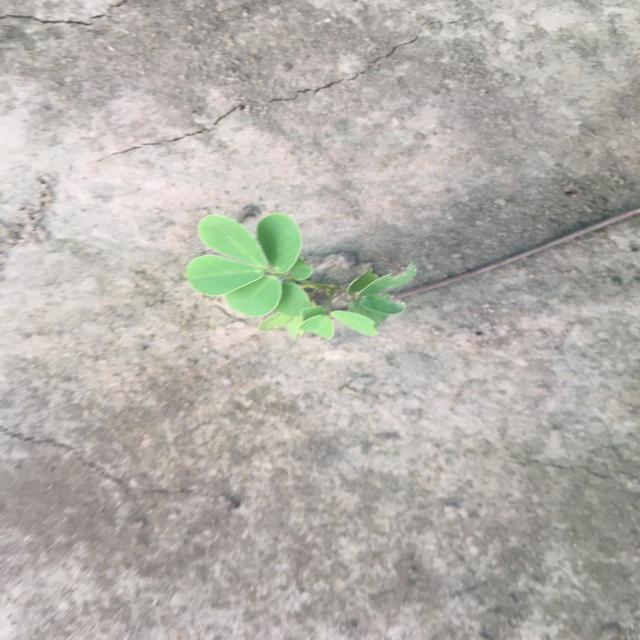Sicklepod: (184, 212, 419, 343)
